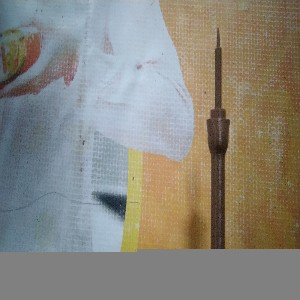solder: (205, 26, 231, 250)
